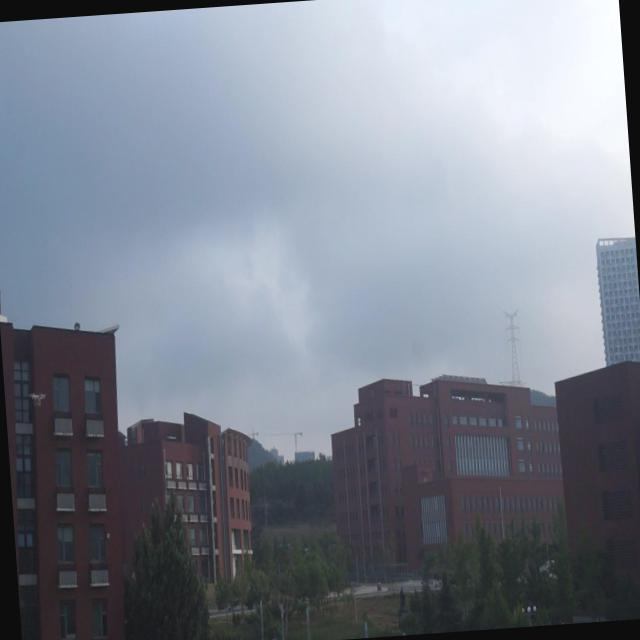drone: (28, 388, 47, 408)
